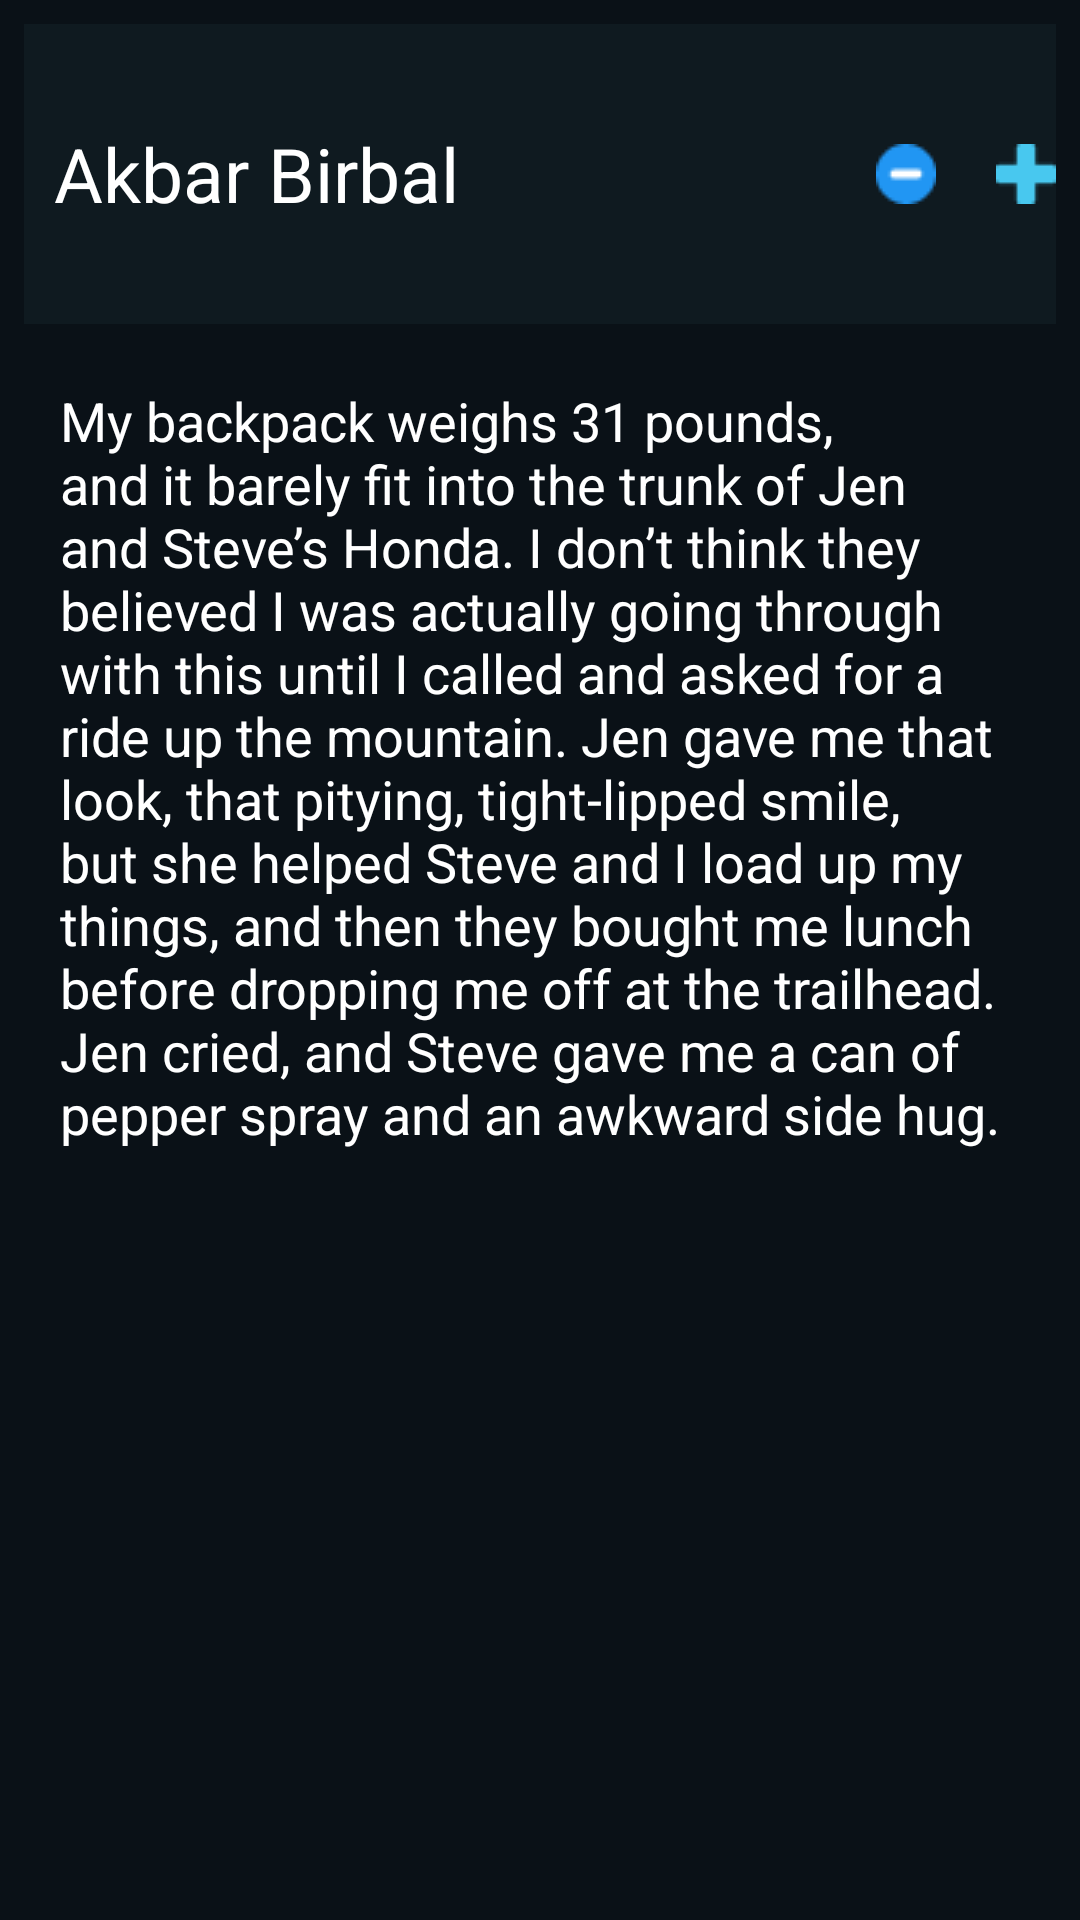

Named icons in this screenshot (1080*1920) and their centers, point (x, y):
add: point (1026, 174)
minus: point (906, 174)
